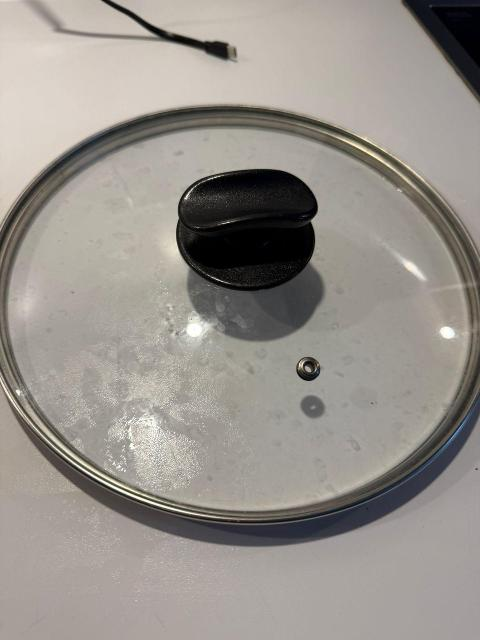Cam: (0, 99, 480, 525)
Plastik: (175, 163, 319, 291)
